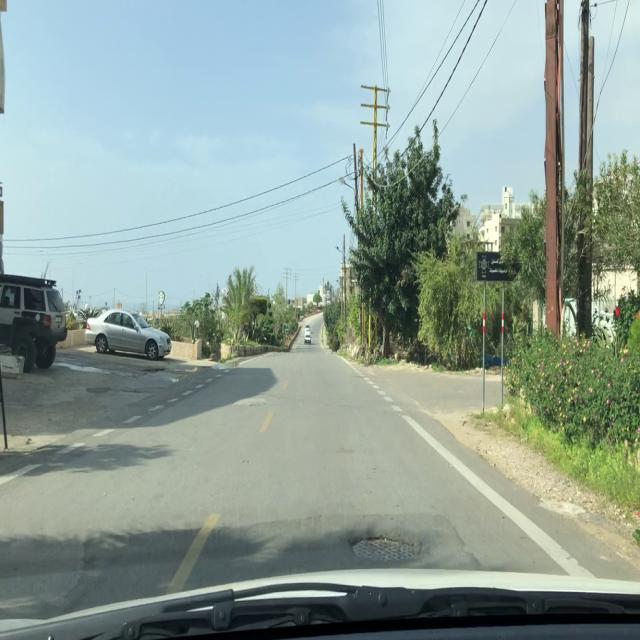Pothole: (348, 530, 423, 563)
